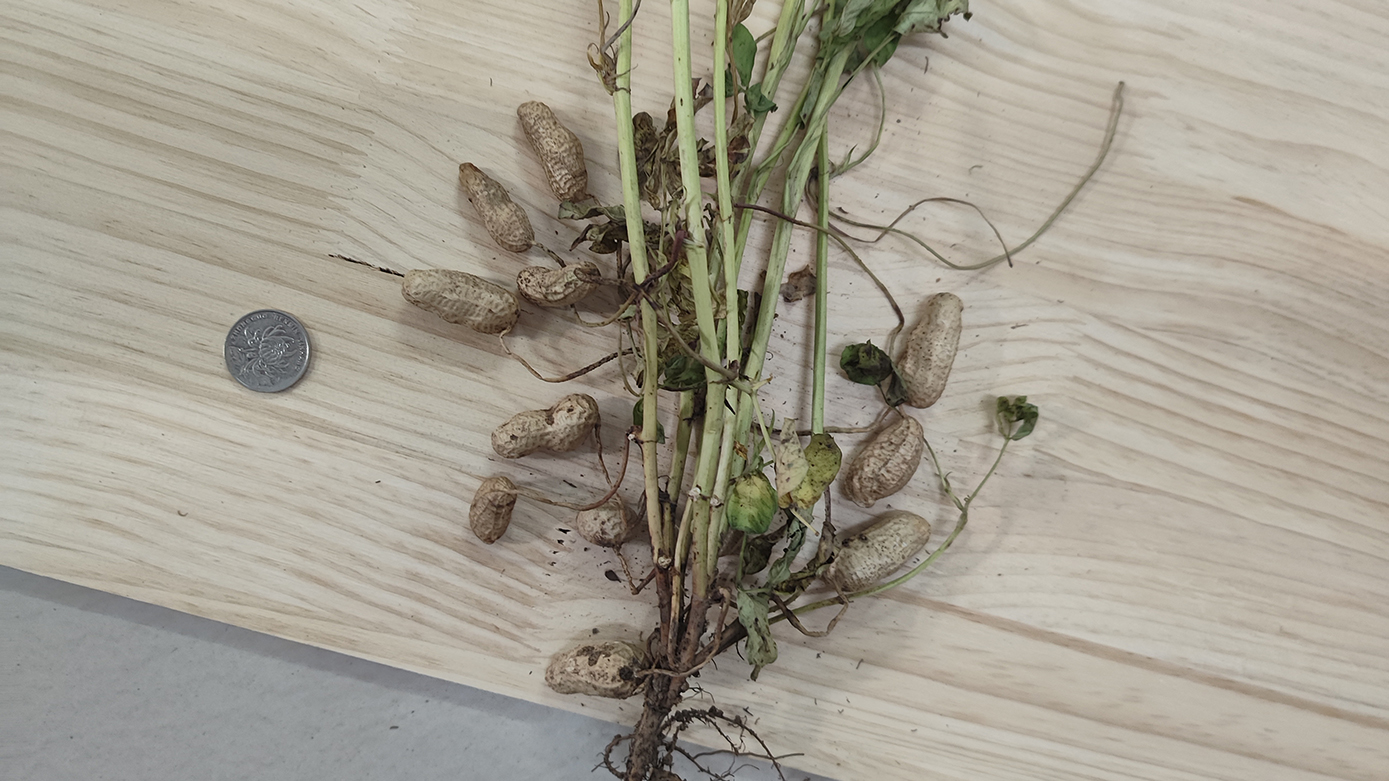h: (890, 291, 964, 408), (823, 511, 932, 589), (402, 266, 518, 333), (840, 416, 924, 504), (490, 394, 602, 457), (458, 160, 534, 252), (519, 102, 589, 199), (544, 640, 650, 697), (467, 473, 518, 545), (518, 263, 601, 306), (576, 503, 627, 548)
